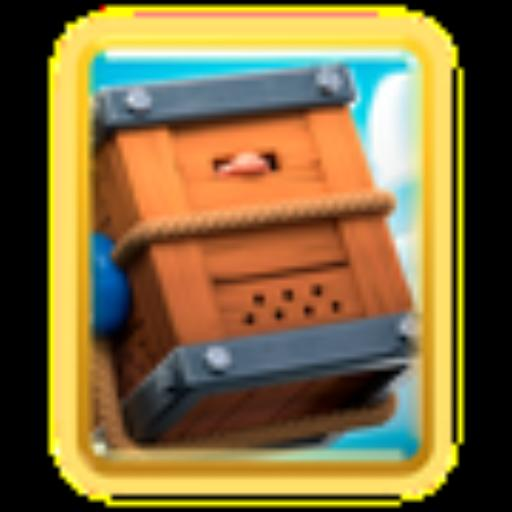royal-delivery: (60, 34, 436, 466)
